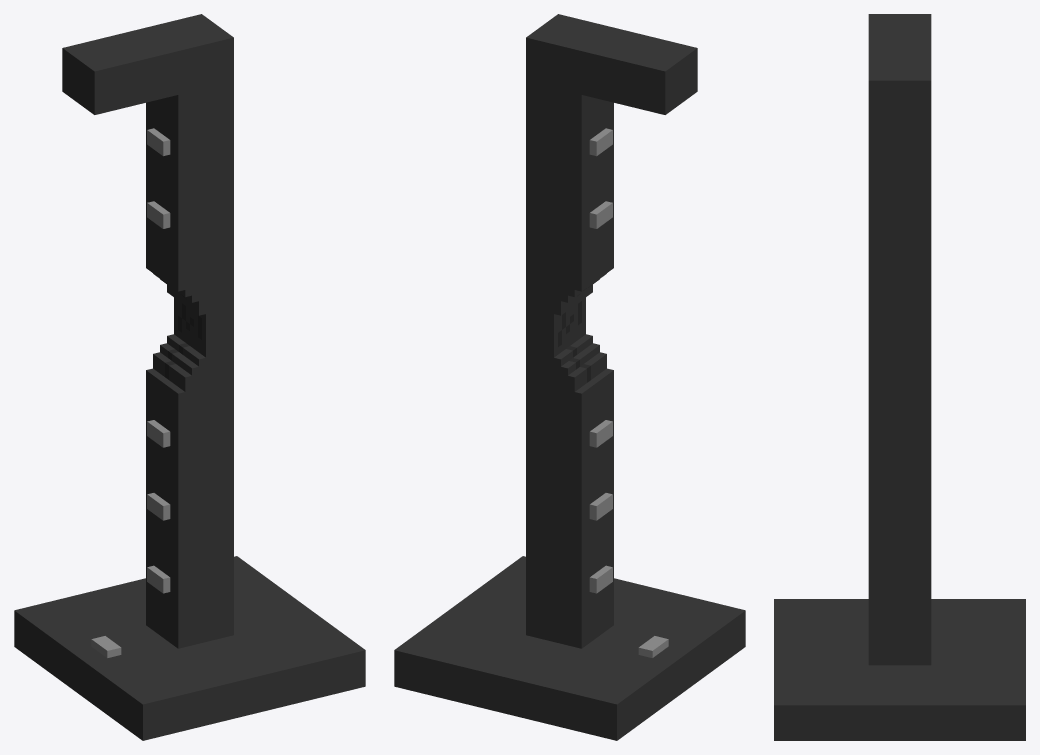
File: Portal_3.3.1.obj
3 renders of one model, left to right at view 1: azimuth 30°, elevation 25°; view 2: azimuth 150°, elevation 25°; view 3: azimuth 270°, elevation 25°, orthographic. The views are drawn at different scales.
Size of the model in its own units: 3.2 by 8.7 by 3.2.
Materials: 1 (1 with a texture image).
